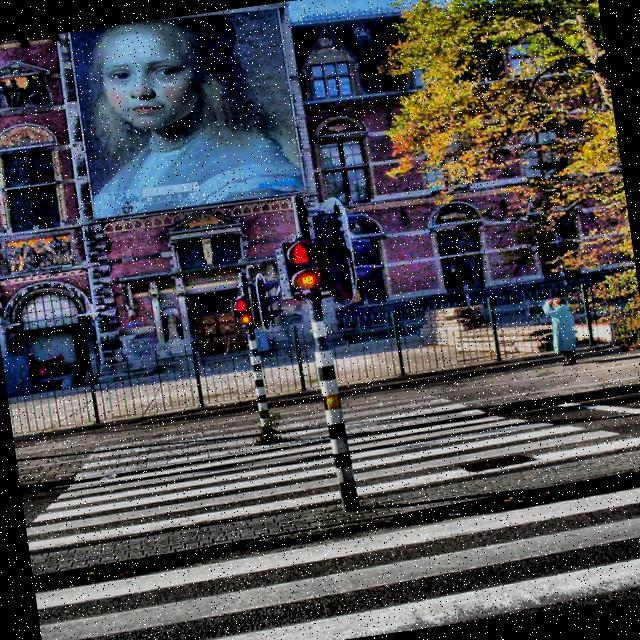red_light: (289, 243, 310, 265), (235, 300, 248, 312)
